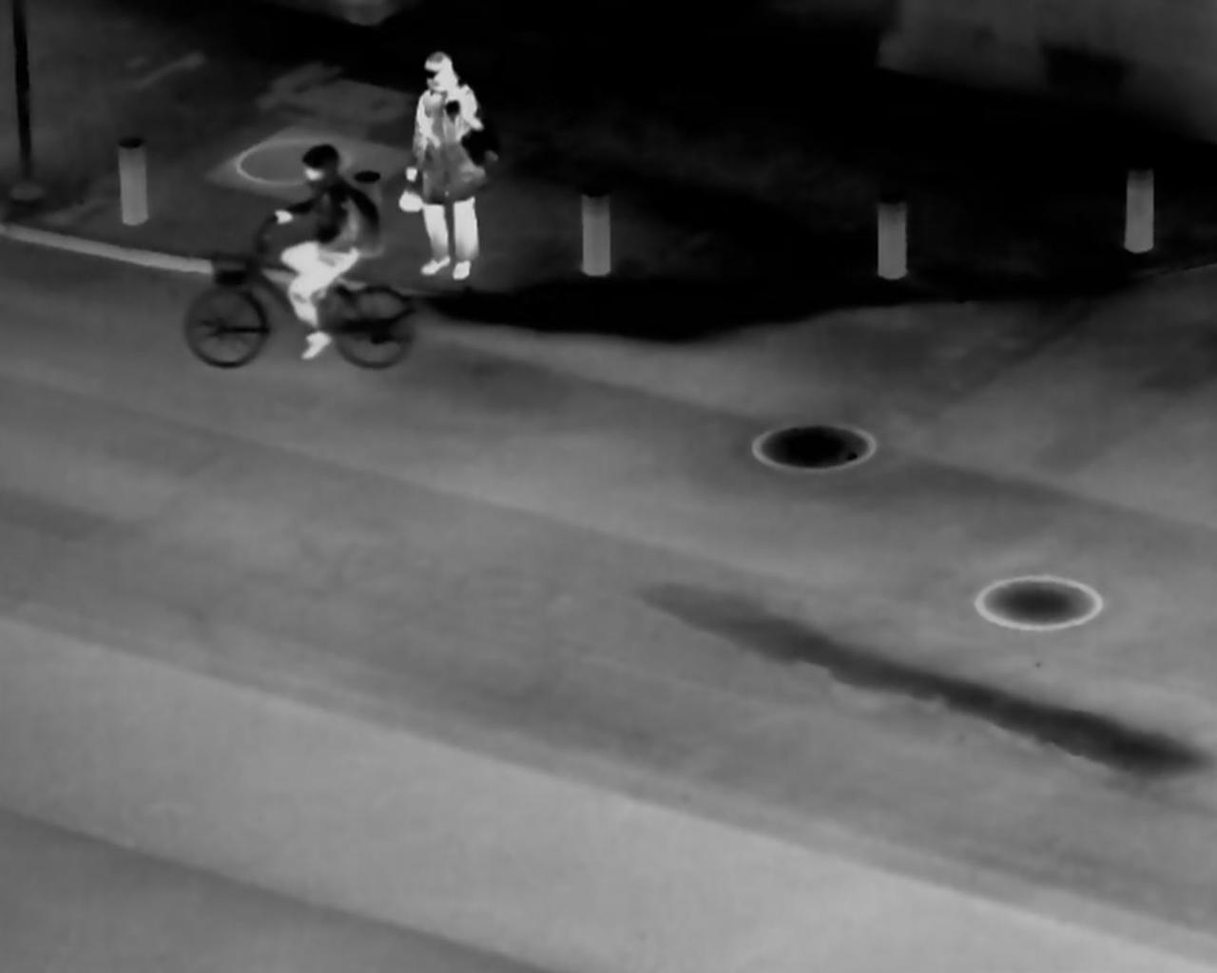person: (256, 143, 383, 369), (391, 46, 490, 289)
